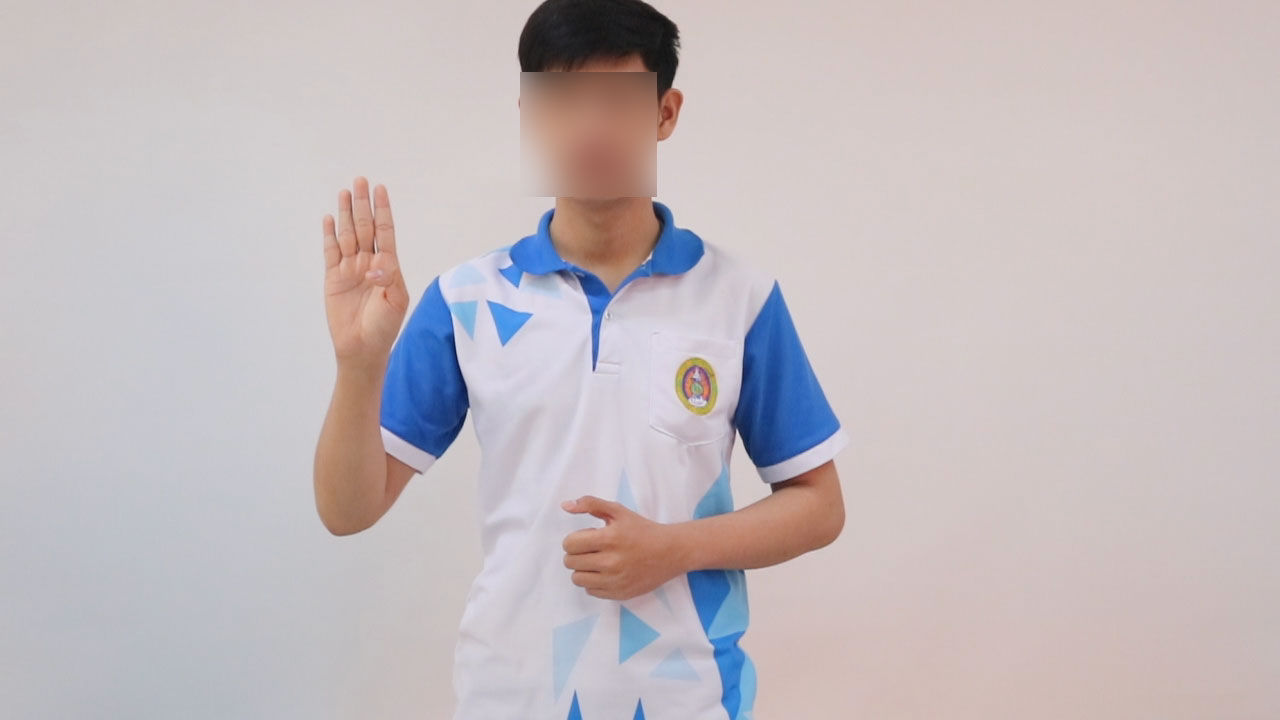bor: (301, 162, 425, 392)
